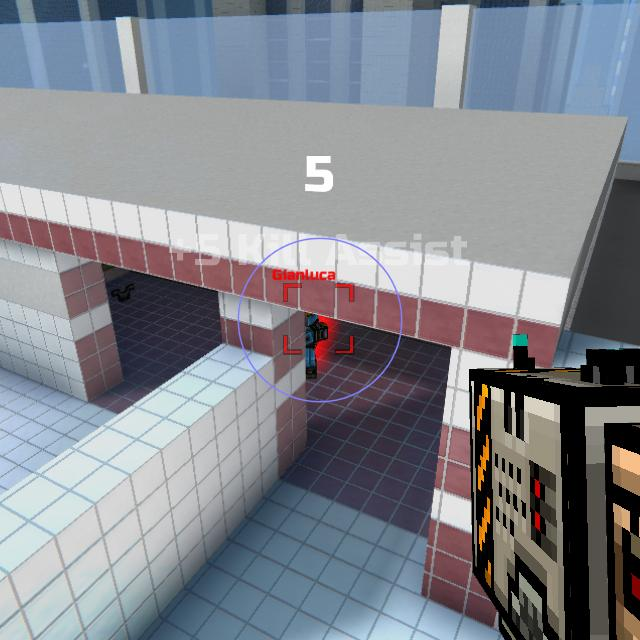Enemy: (305, 312, 328, 379)
